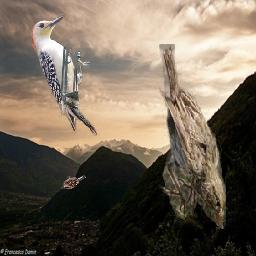Sparrow: (160, 45, 227, 230), (62, 175, 87, 189)
Woodpecker: (29, 14, 97, 137)
